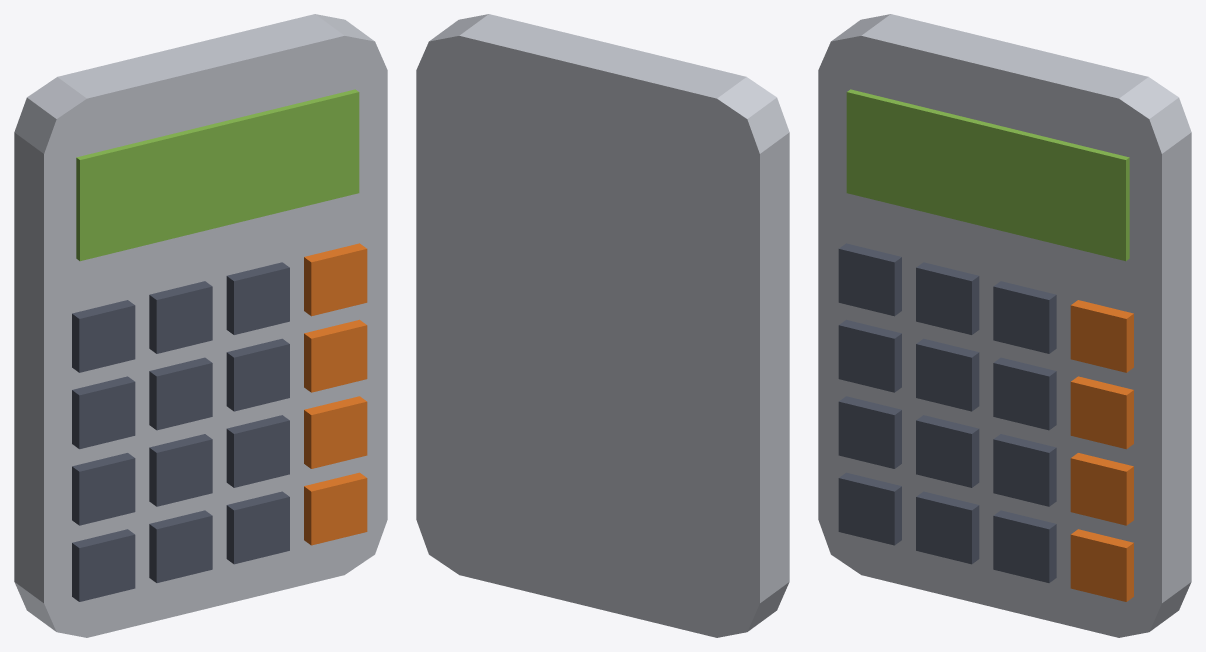
The model's file is calculator.glb.
The picture shows the model from 3 angles, left to right: view 1: azimuth 30°, elevation 25°; view 2: azimuth 150°, elevation 25°; view 3: azimuth 330°, elevation 25°; orthographic projection.
Parts seen in each view (by area): view 1: Calculator, Calculator keys, Calculator display; view 2: Calculator; view 3: Calculator, Calculator keys, Calculator display.
Part boxes in pixels (x1,y1,x2,y2): Calculator: [14, 14, 387, 637]; Calculator keys: [72, 243, 367, 601]; Calculator display: [76, 89, 359, 261]; Calculator: [416, 14, 789, 637]; Calculator: [818, 14, 1191, 637]; Calculator keys: [838, 243, 1133, 601]; Calculator display: [846, 89, 1129, 261].
Bounding box in the file's own units: 0.16 × 0.24 × 0.03.
